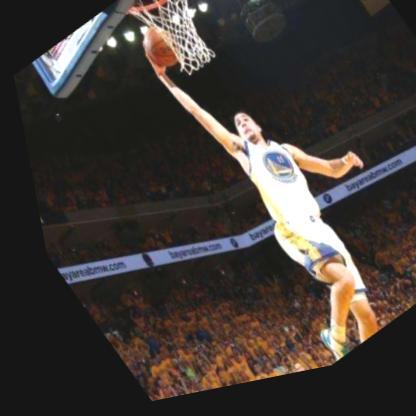basketball: (132, 24, 183, 82)
rim: (114, 0, 240, 99)
